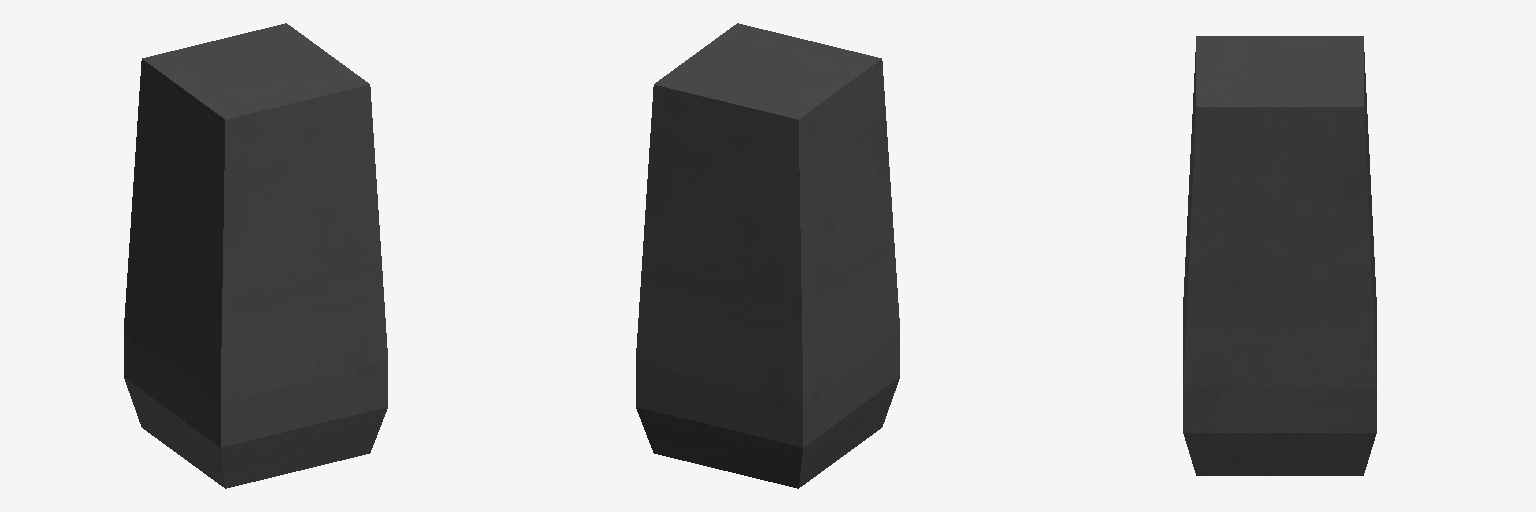
3 views of the same model, side by side, from view 1: azimuth 30°, elevation 25°; view 2: azimuth 150°, elevation 25°; view 3: azimuth 270°, elevation 25° (orthographic).
Visible parts, largest first — view 1: Trashcan_TrashcanMesh; view 2: Trashcan_TrashcanMesh; view 3: Trashcan_TrashcanMesh.
Part boxes in pixels (bbox=[...]): Trashcan_TrashcanMesh: bbox=[124, 23, 387, 488]; Trashcan_TrashcanMesh: bbox=[636, 23, 899, 488]; Trashcan_TrashcanMesh: bbox=[1183, 36, 1376, 475].
Size of the model in its own units: 0.476 by 1 by 0.476.
Materials: 1 (1 with a texture image).